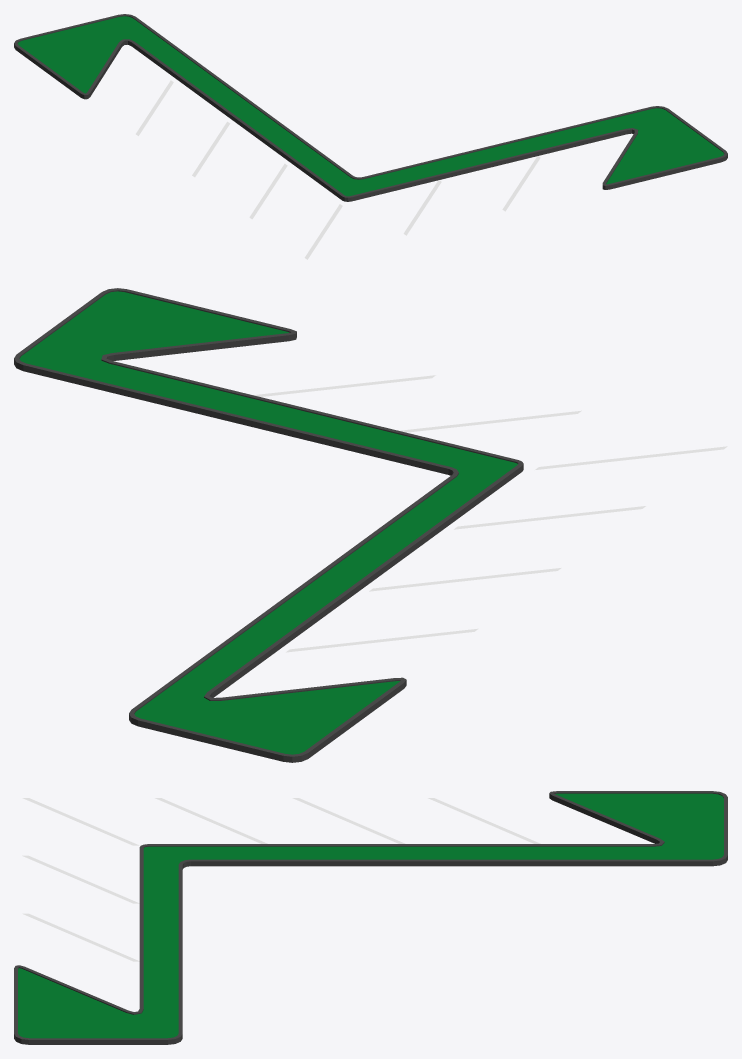
Rendered from Park-05.fbx.
The picture shows the model from 3 angles, top to bottom: view 1: azimuth 30°, elevation 25°; view 2: azimuth 150°, elevation 25°; view 3: azimuth 270°, elevation 25°; orthographic projection. The views are drawn at different scales.
Visible parts, largest first — view 1: Park-05; view 2: Park-05; view 3: Park-05.
Boxes of the visible parts, bbox=[...] form: Park-05: bbox=[14, 14, 727, 259]; Park-05: bbox=[14, 288, 727, 762]; Park-05: bbox=[14, 791, 727, 1044].
Size of what is drawn, in the model's own units: 21.5 by 0.2 by 26.07.
